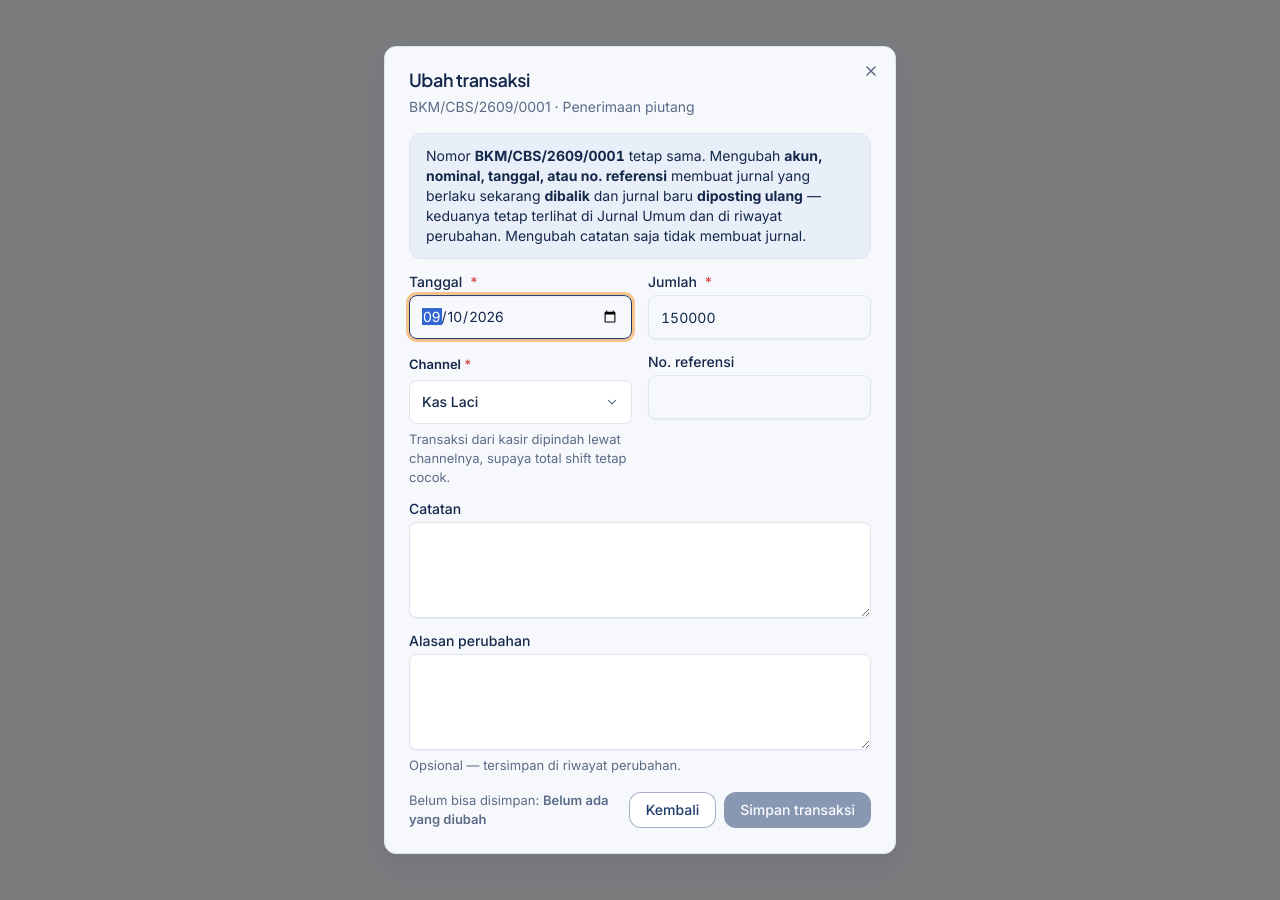
it: CashTransactionEditDialog — the same-class cash side › keeps the channel picker for a payment recorded at the till
Click the button with aria-label "Channel" at coordinates (520, 402), box [409, 380, 632, 424]
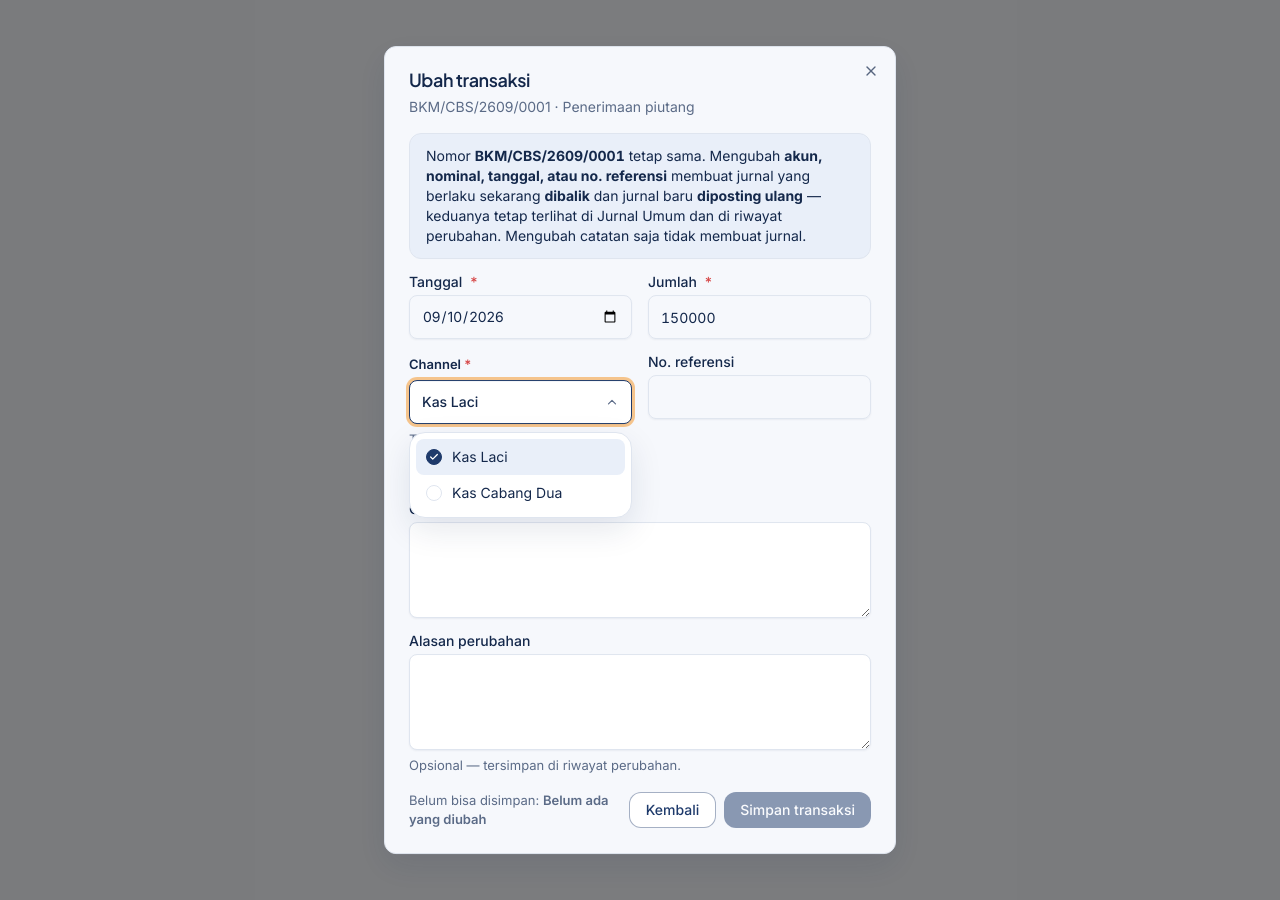
Check: the option "Kas Cabang Dua" is shown, box [426, 484, 562, 501]
